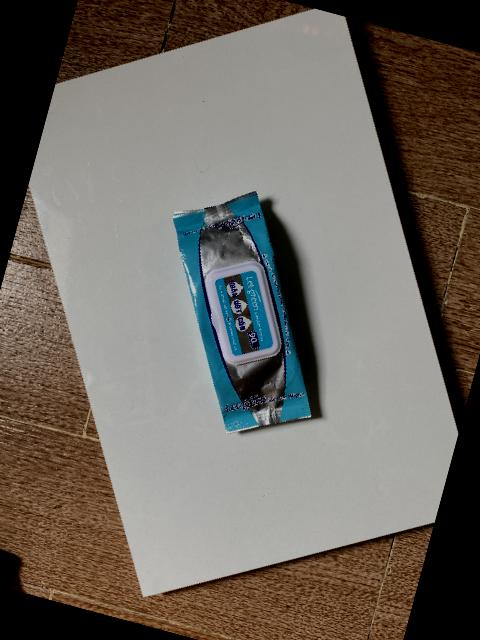Let-green_alcohol_wipes: (171, 190, 311, 435)
